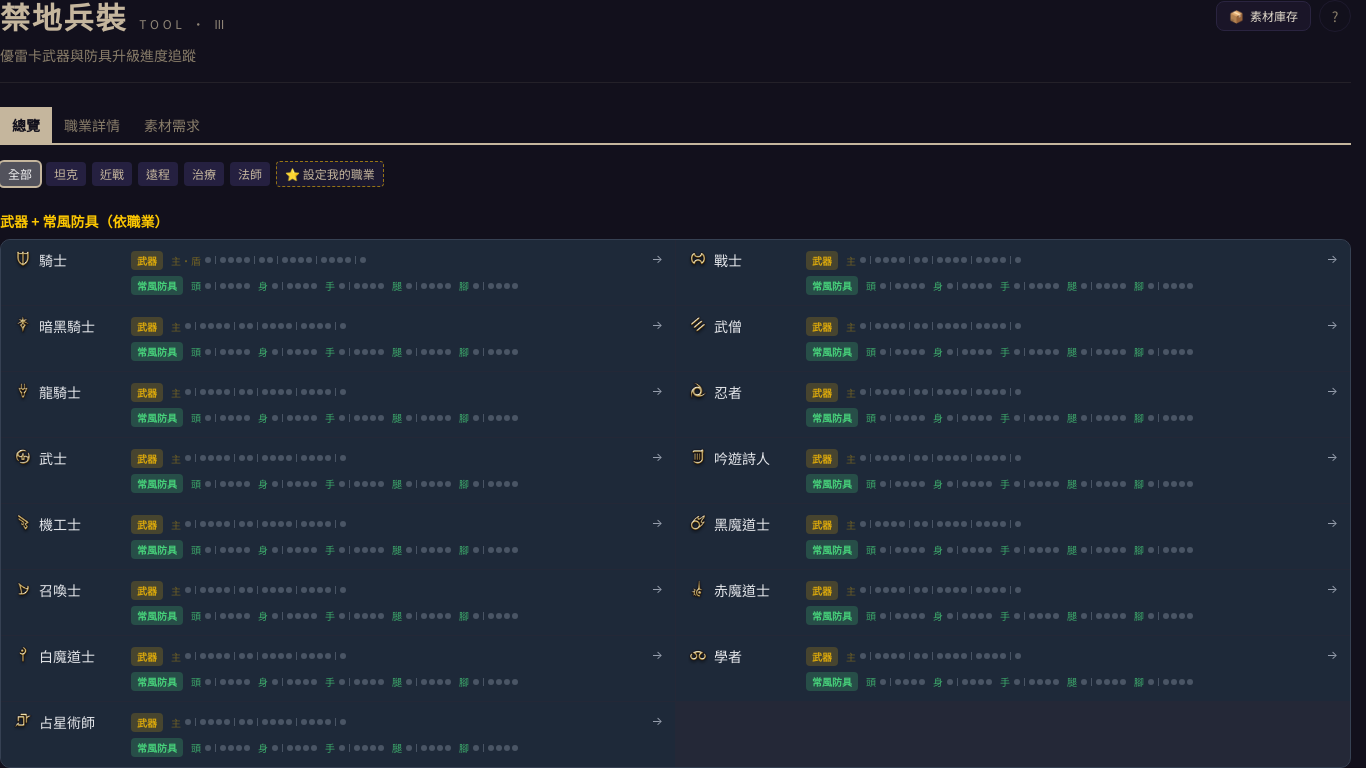
EurekaGearPage › clicking farming tab switches content
Expected: the heading "禁地兵裝" is shown, [0, 0, 127, 38]
Click the tab "素材需求" at {"x": 172, "y": 125}, box [132, 107, 212, 143]
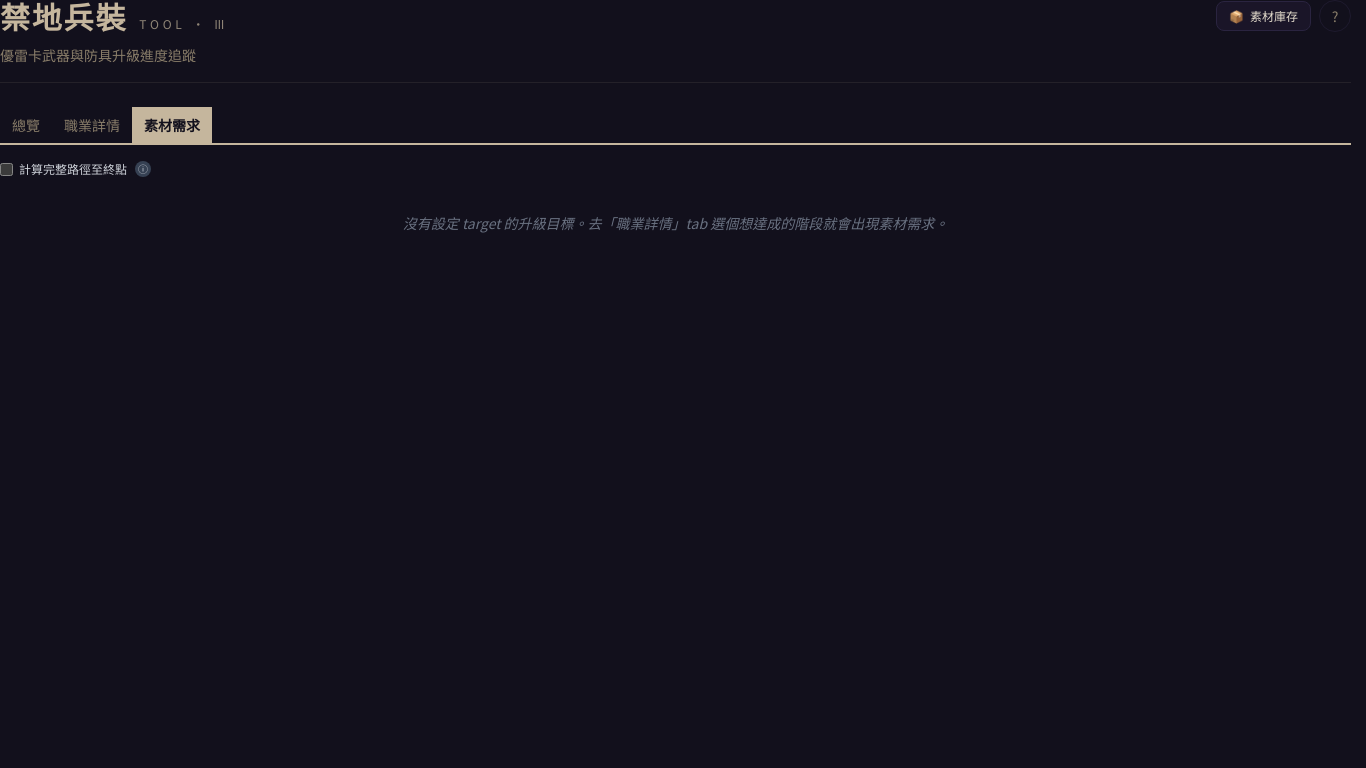
Result: the text "沒有設定 target 的升級目標。去「職業詳情」tab 選個想達成的階段就會出現素材需求。" is shown at [403, 213, 948, 233]
